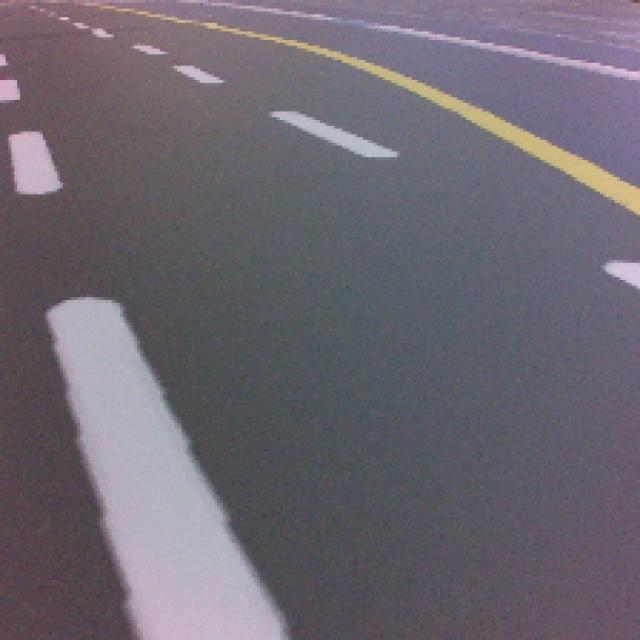Pedestrian crosswalk: (47, 297, 291, 638)
